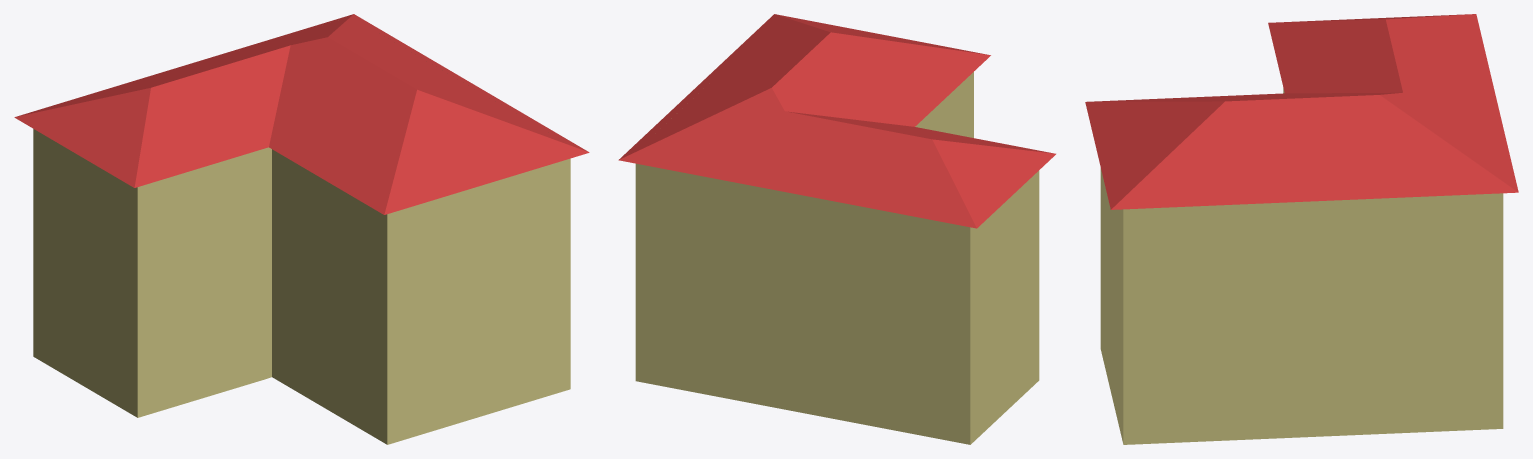
3 renders of one model, left to right at view 1: azimuth 30°, elevation 25°; view 2: azimuth 150°, elevation 25°; view 3: azimuth 270°, elevation 25°, orthographic. The views are drawn at different scales.
Bounding box in the file's own units: 16.44 × 15.38 × 11.44.
